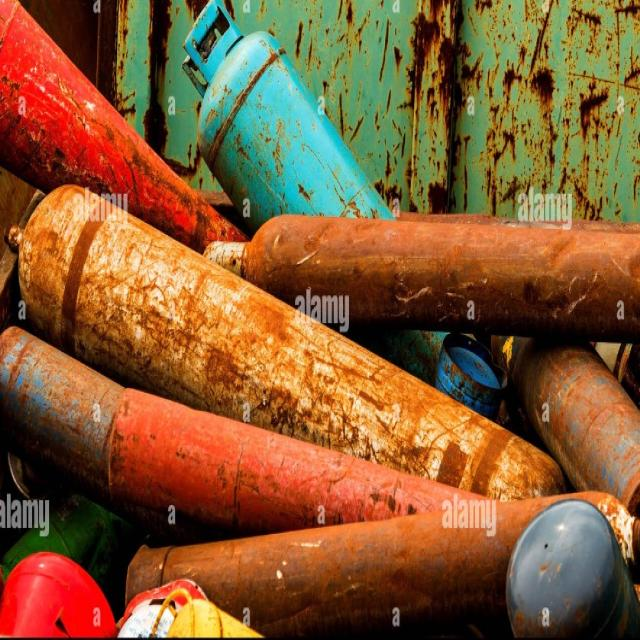Cylinder: (19, 185, 565, 499), (0, 327, 456, 532), (126, 498, 558, 637), (210, 213, 640, 340), (182, 0, 394, 230), (512, 339, 640, 516)
